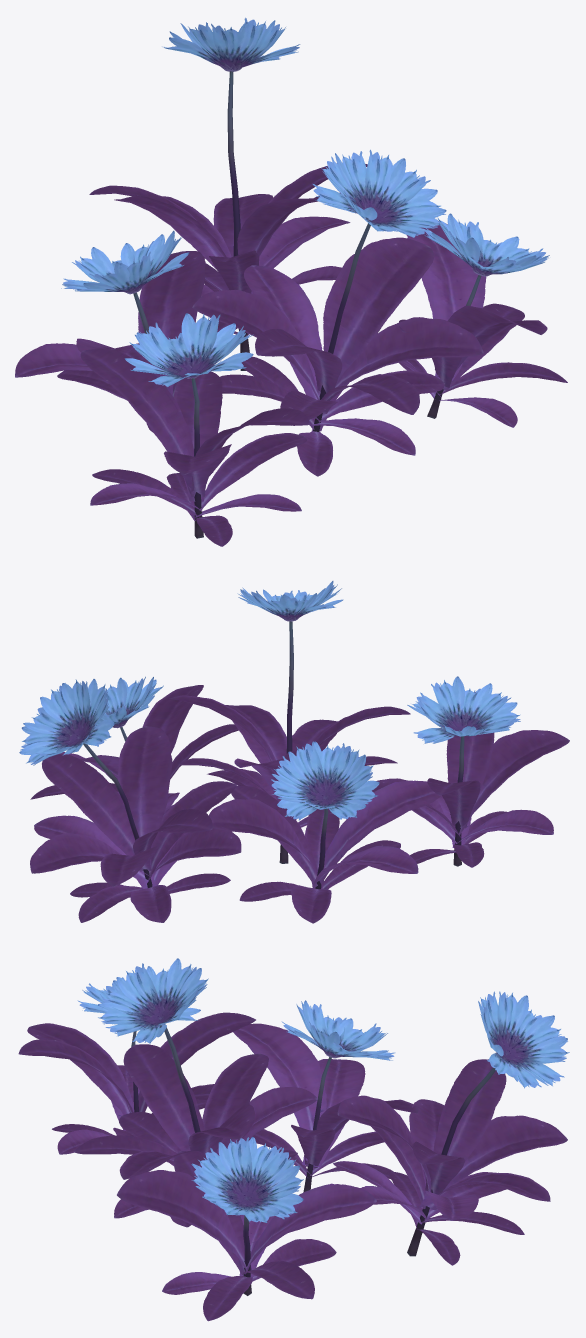
3 views of the same model, one above another, from view 1: azimuth 30°, elevation 25°; view 2: azimuth 150°, elevation 25°; view 3: azimuth 270°, elevation 25° (orthographic). The views are drawn at different scales.
Parts seen in each view (by area): view 1: SM_FH_Gazania_03_LOD0; view 2: SM_FH_Gazania_03_LOD0; view 3: SM_FH_Gazania_03_LOD0.
Part boxes in pixels (left/top/right/bottom): SM_FH_Gazania_03_LOD0: left=15, top=17, right=567, bottom=546; SM_FH_Gazania_03_LOD0: left=19, top=581, right=569, bottom=923; SM_FH_Gazania_03_LOD0: left=18, top=958, right=569, bottom=1321.
Bounding box in the file's own units: 0.5046 × 0.289 × 0.5251.
Materials: 1 (1 with a texture image).
